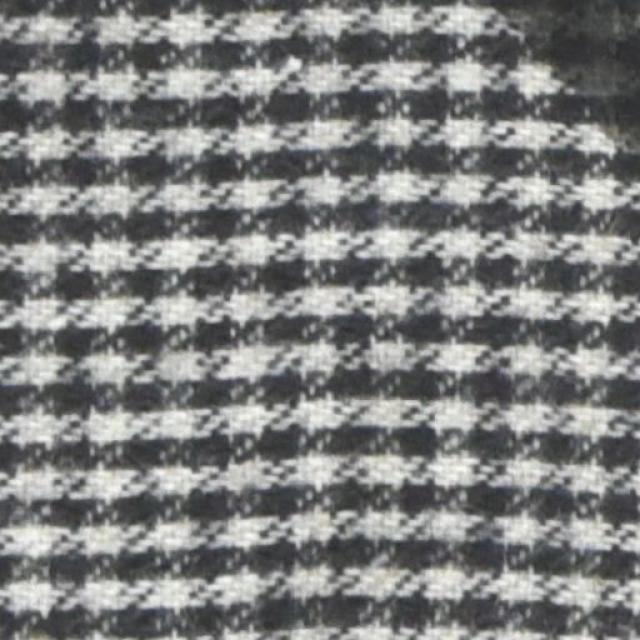Stain: (490, 1, 639, 172)
